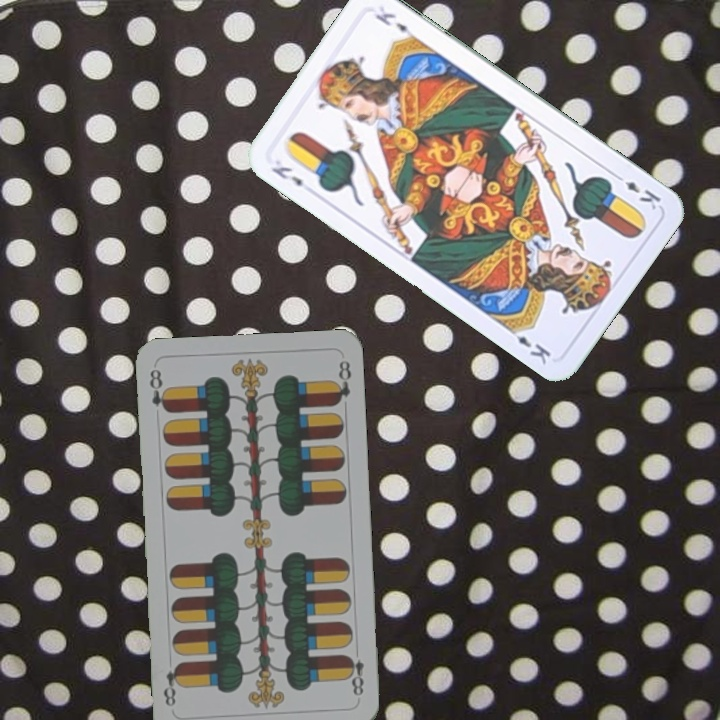E8: (145, 365, 171, 415), (343, 651, 366, 699)
EK: (610, 170, 664, 213), (267, 162, 305, 190)
